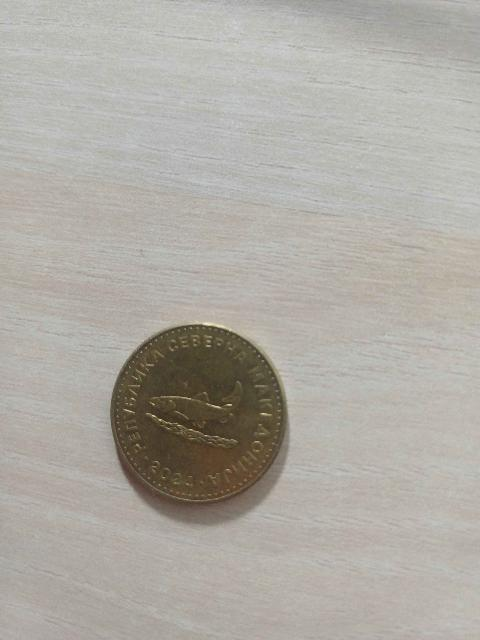coin: (111, 323, 285, 502)
